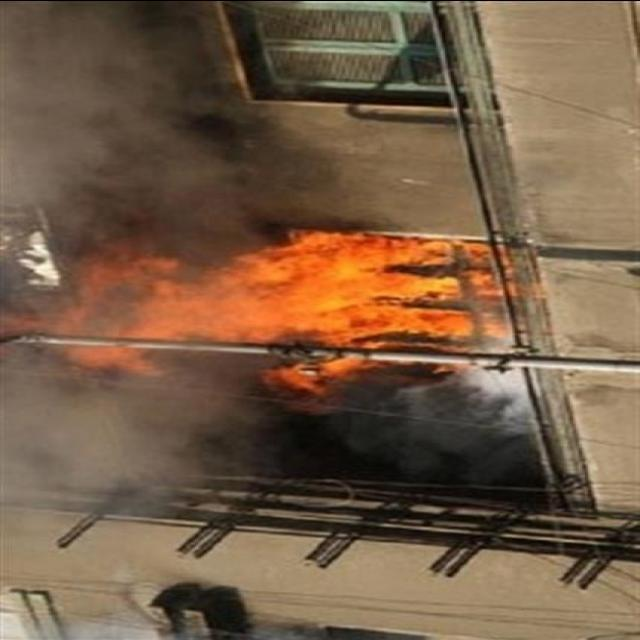Fire: (70, 230, 488, 380)
